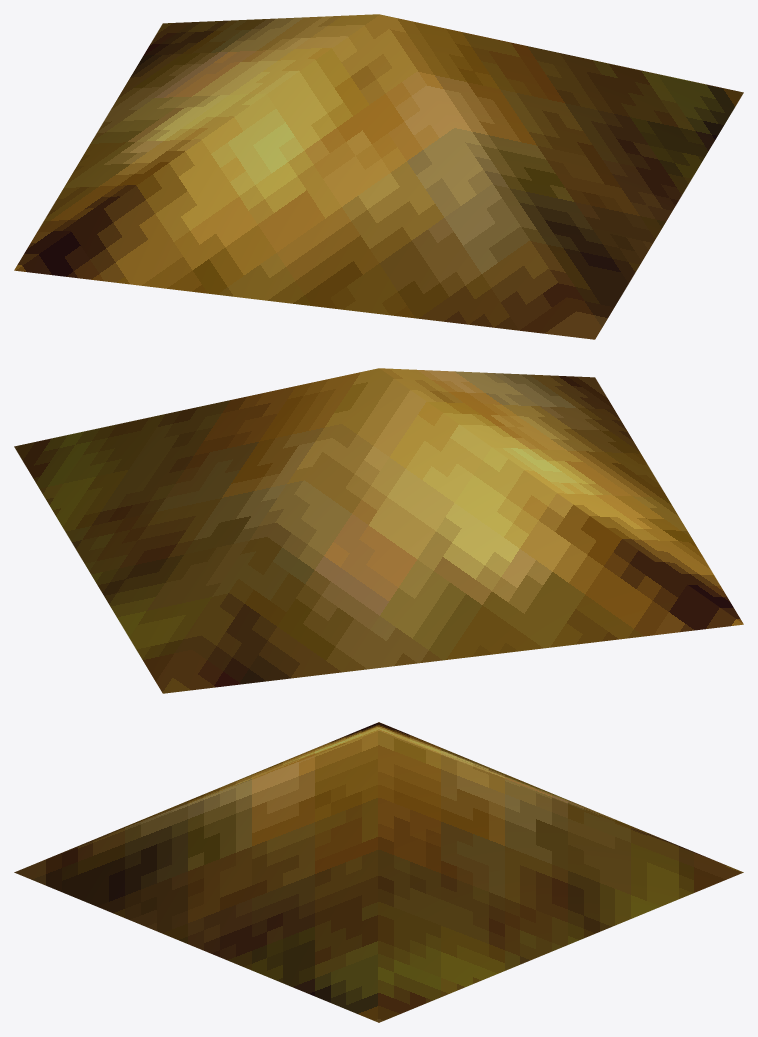
Rendered from frst_fngi_mushroom_redyellow_a2_l2.fbx.
3 renders of one model, top to bottom at view 1: azimuth 30°, elevation 25°; view 2: azimuth 150°, elevation 25°; view 3: azimuth 270°, elevation 25°, orthographic. The views are drawn at different scales.
Visible parts, largest first — view 1: mesh_node; view 2: mesh_node; view 3: mesh_node.
Boxes of the visible parts, x1=… form: mesh_node: x1=14, y1=14, x2=743, y2=339; mesh_node: x1=14, y1=368, x2=743, y2=693; mesh_node: x1=14, y1=722, x2=743, y2=1022.
Bounding box in the file's own units: 0.3881 × 0.085 × 0.398.
Materials: 1 (1 with a texture image).
